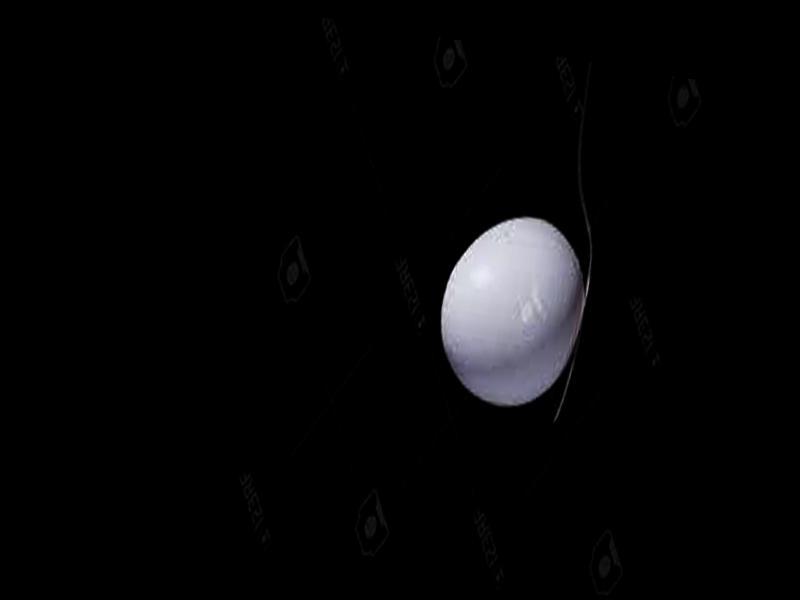Eggs: (428, 204, 597, 417)
